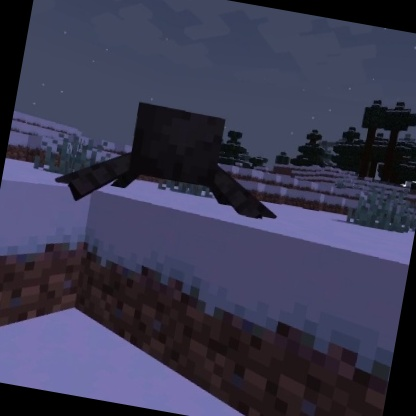spider: (48, 84, 297, 240)
